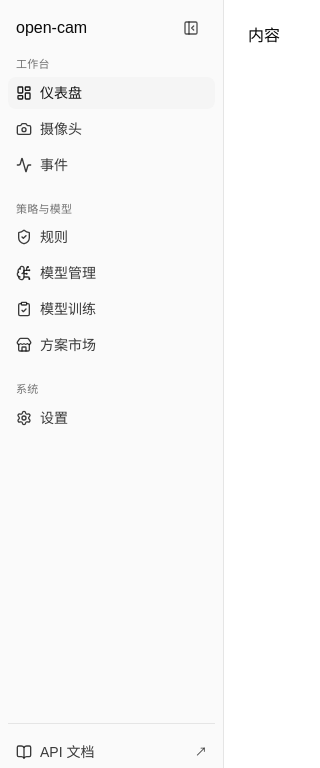
AppShell › 可以收起和展开侧边菜单
This screenshot has width=320, height=768.
What coordinates should you click on to do the following:
click the button named "收起菜单"
I would click on:
 (191, 28)
Its box is [175, 12, 207, 44].
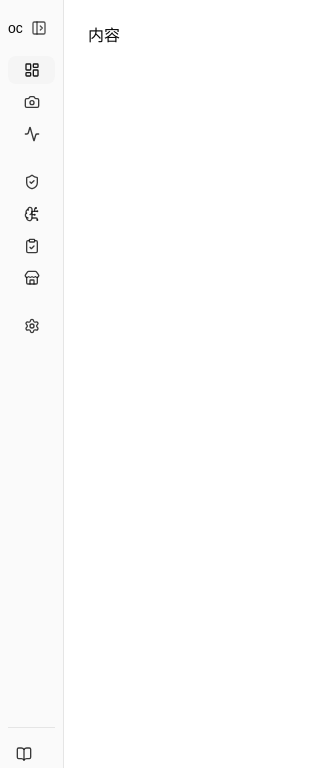
Expected: the button named "展开菜单" is shown
What coordinates should you click on to do the following:
click the button named "展开菜单"
I would click on:
 (39, 28)
Its box is [23, 12, 55, 44].
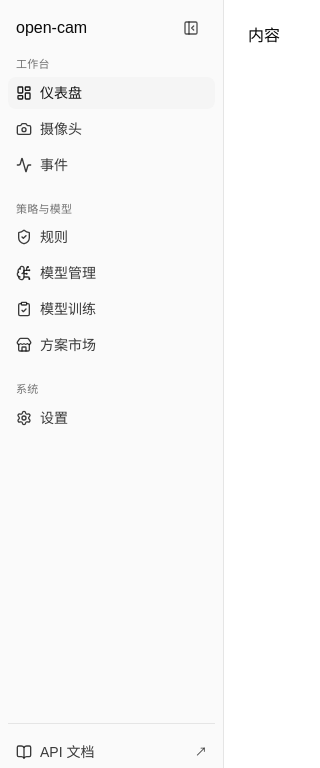
Expected: the button named "收起菜单" is shown, [175, 12, 207, 44]
